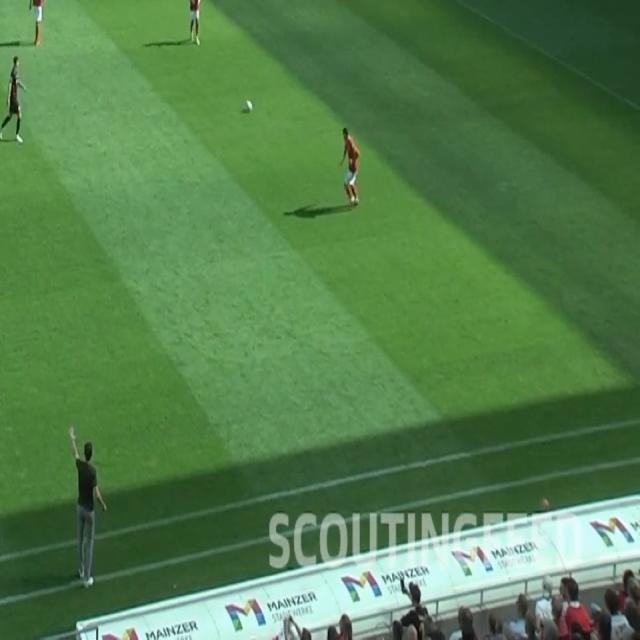ball: (245, 98, 253, 115)
